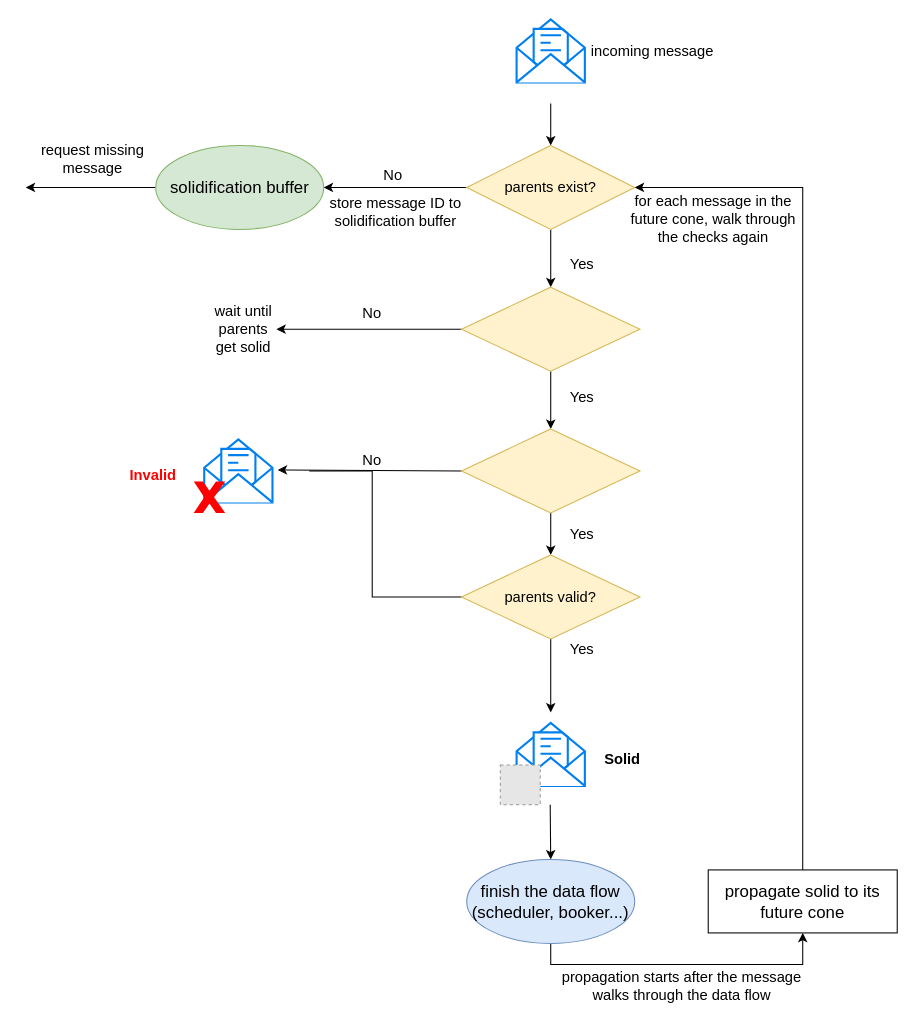
Image size: 916x1021. Some labels were removed from this diagram. Grey dashed boxes stand in for pictures. The box of each missing label's shape, as (x1, y1, x2, y2) in pixels:
parents age check passes?: (460, 428, 640, 513)
parents solid?: (460, 286, 640, 371)
